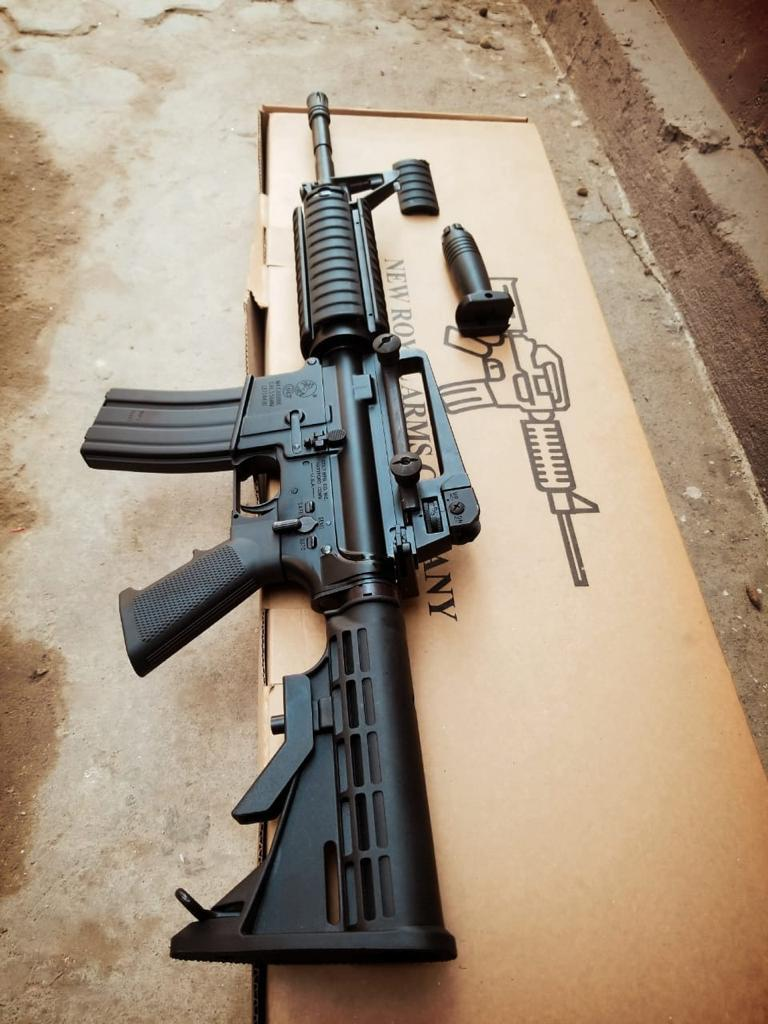weapon: (79, 88, 482, 964)
